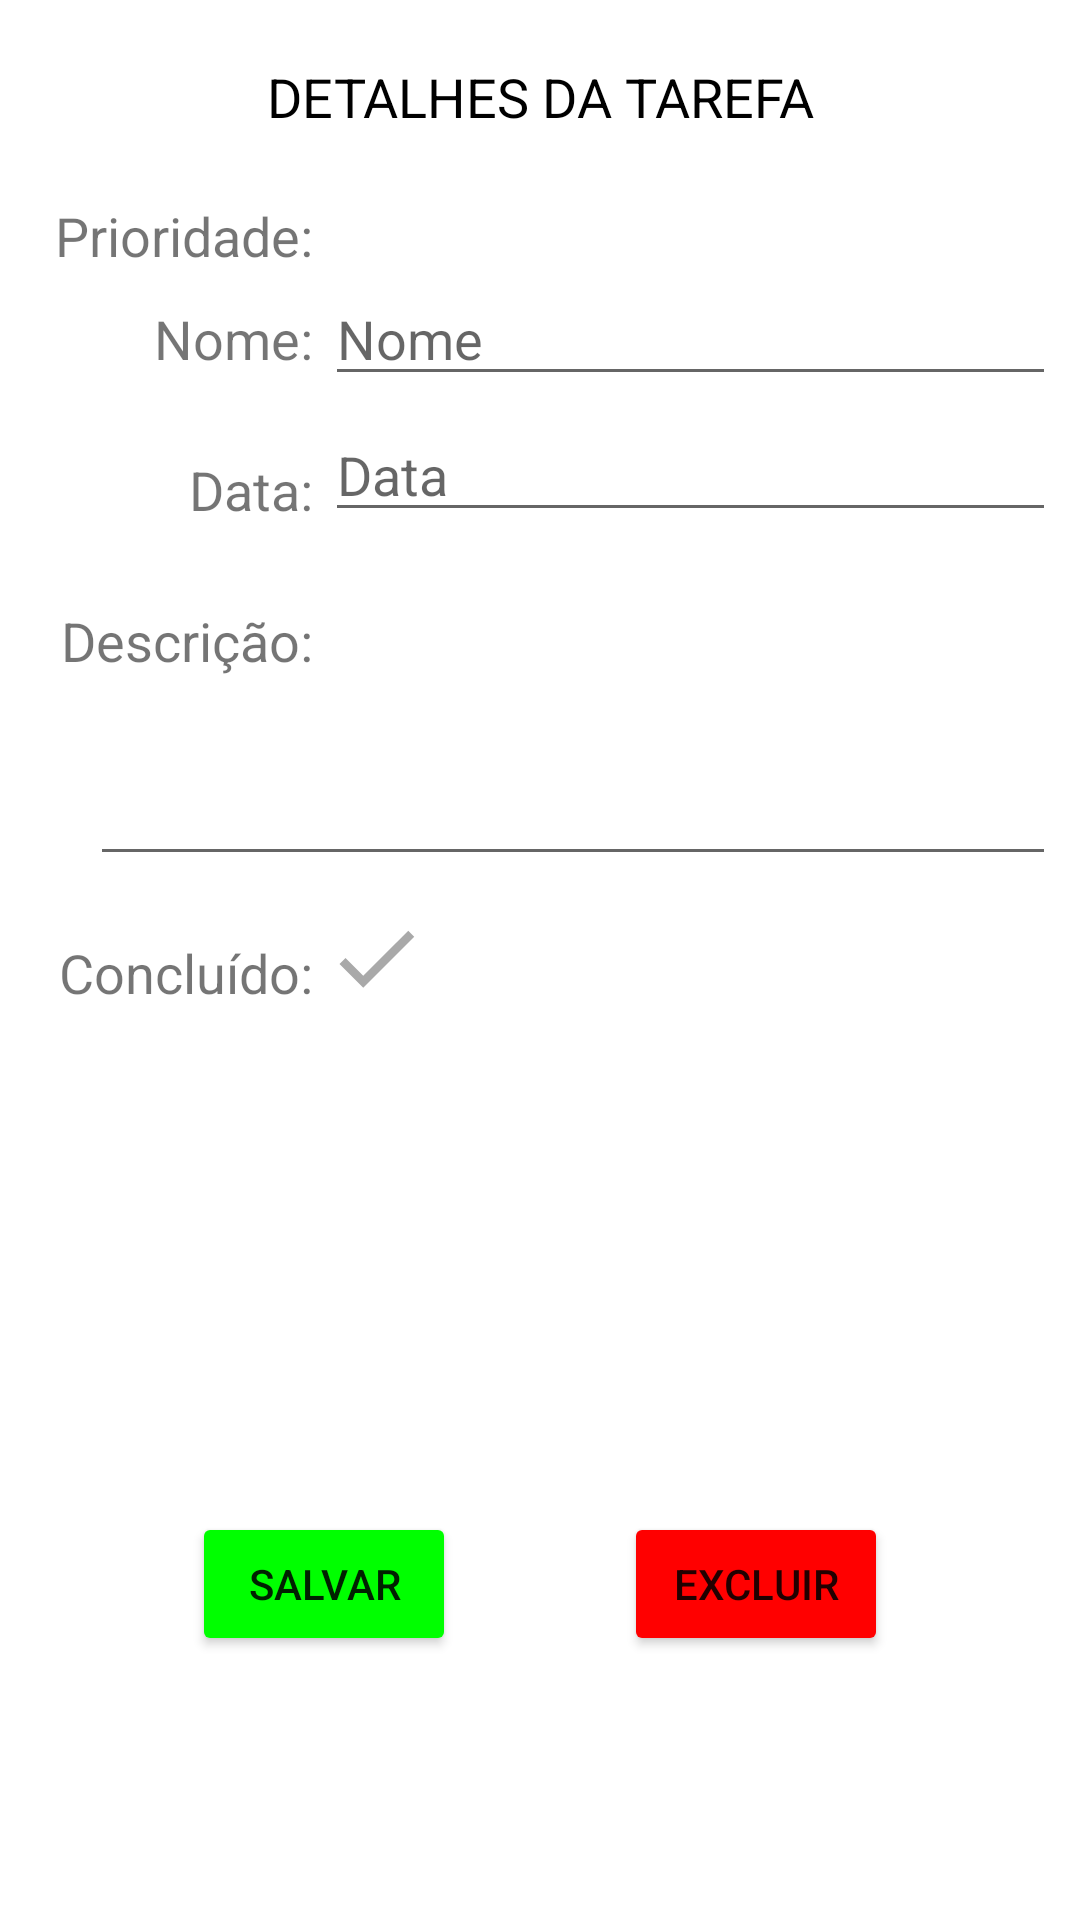

Named icons in this screenshot (1080px x 1920px) and their bounding boxes, (x1=x1, y1=y1, x2=x2, y2=y2):
check: (x1=340, y1=931, x2=414, y2=988)
